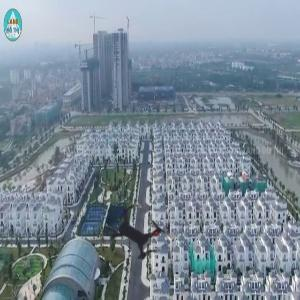drone: (88, 180, 193, 285)
